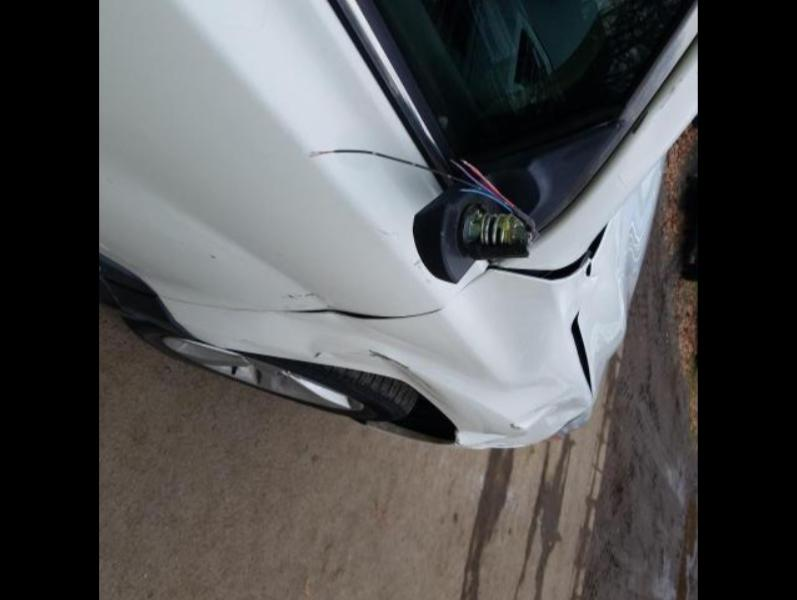Broken part: (504, 228, 604, 402), (412, 186, 536, 282)
Dent: (180, 208, 590, 448), (578, 220, 624, 396)
Missing part: (416, 188, 532, 284)
Paint chip: (358, 342, 418, 376), (308, 344, 328, 358)
Scratch: (366, 346, 440, 400), (284, 290, 338, 308), (368, 222, 394, 242), (380, 230, 400, 240), (508, 423, 522, 430), (412, 258, 421, 268), (209, 252, 218, 260), (426, 274, 434, 282), (314, 350, 324, 356), (418, 264, 425, 270)
